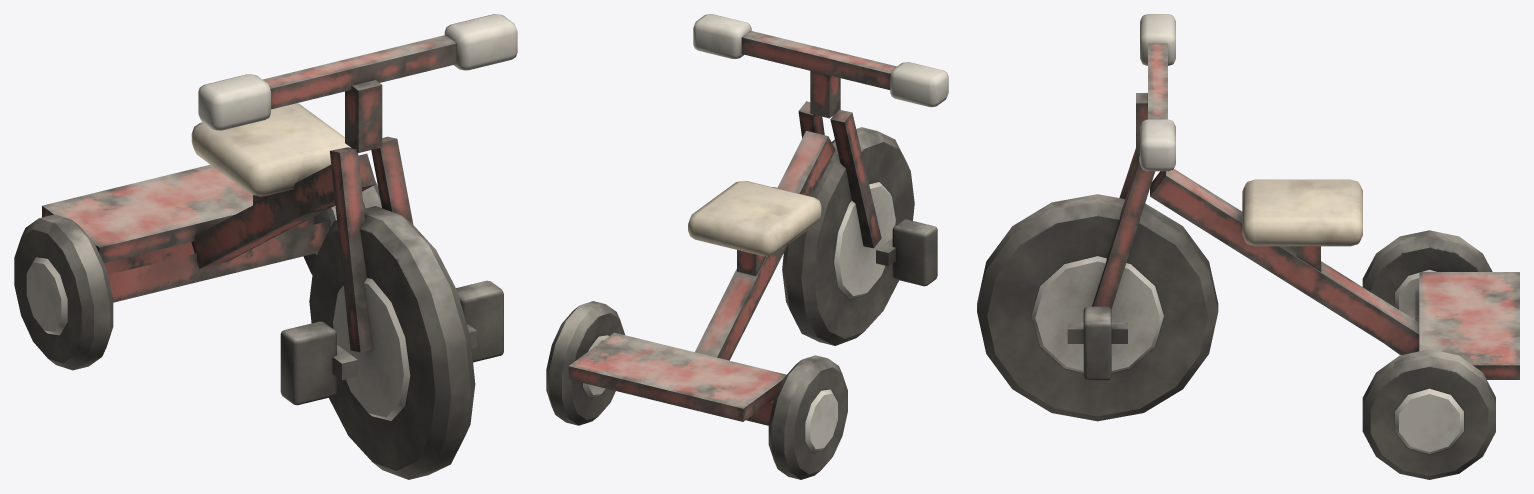
Rendered from tricycle.fbx.
3 renders of one model, left to right at view 1: azimuth 30°, elevation 25°; view 2: azimuth 150°, elevation 25°; view 3: azimuth 270°, elevation 25°, orthographic. The views are drawn at different scales.
Parts seen in each view (by area): view 1: Body; view 2: Body; view 3: Body.
Part boxes in pixels (<box>): Body: <box>14,14,517,479</box>; Body: <box>546,14,948,479</box>; Body: <box>977,14,1519,479</box>.
Size of the model in its own units: 1.6 by 1.87 by 2.7.
Materials: 1 (1 with a texture image).
